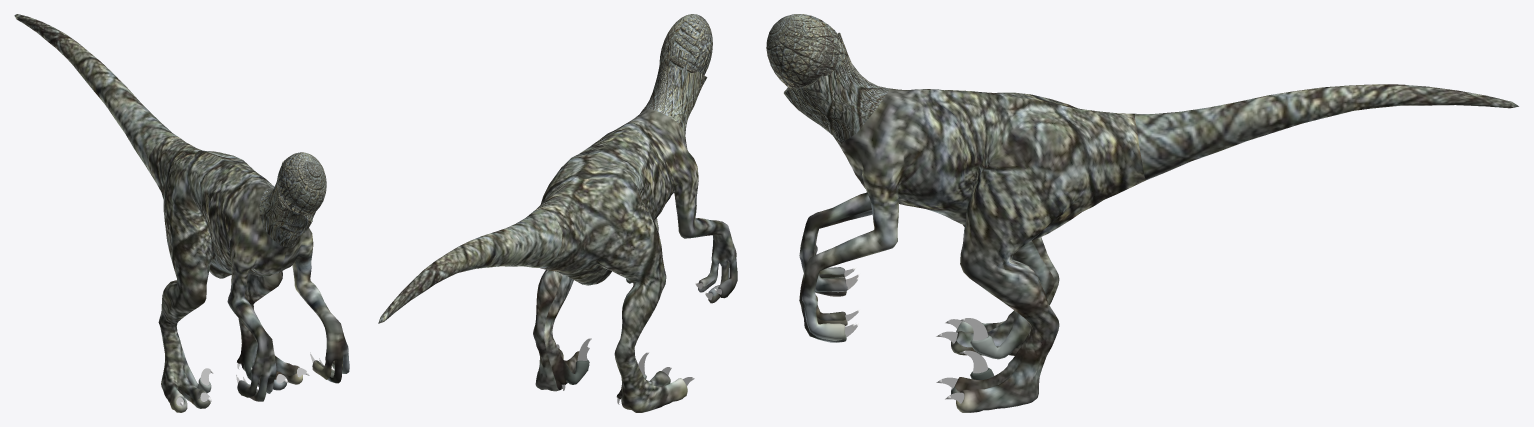
The model's file is cuerpo.obj.
3 views of the same model, side by side, from view 1: azimuth 30°, elevation 25°; view 2: azimuth 150°, elevation 25°; view 3: azimuth 270°, elevation 25° (orthographic). The views are drawn at different scales.
Parts seen in each view (by area): view 1: Cuerpo, Sphere001, CuelloCabeza, Raptor1; view 2: Cuerpo, CuelloCabeza, Sphere001, Raptor1; view 3: Cuerpo, CuelloCabeza, Sphere001, Raptor1.
Part boxes in pixels (x1=…): Cuerpo: x1=14, y1=14, x2=349, y2=412; Sphere001: x1=277, y1=152, x2=326, y2=215; CuelloCabeza: x1=259, y1=157, x2=315, y2=246; Raptor1: x1=176, y1=352, x2=323, y2=406; Cuerpo: x1=378, y1=109, x2=737, y2=412; CuelloCabeza: x1=643, y1=45, x2=707, y2=134; Sphere001: x1=659, y1=14, x2=712, y2=75; Raptor1: x1=556, y1=279, x2=721, y2=404; Cuerpo: x1=799, y1=84, x2=1518, y2=412; CuelloCabeza: x1=783, y1=32, x2=888, y2=145; Sphere001: x1=766, y1=14, x2=847, y2=88; Raptor1: x1=844, y1=267, x2=988, y2=403.
Size of the model in its own units: 23.07 by 50.11 by 94.41.
Materials: 2 (2 with a texture image).
